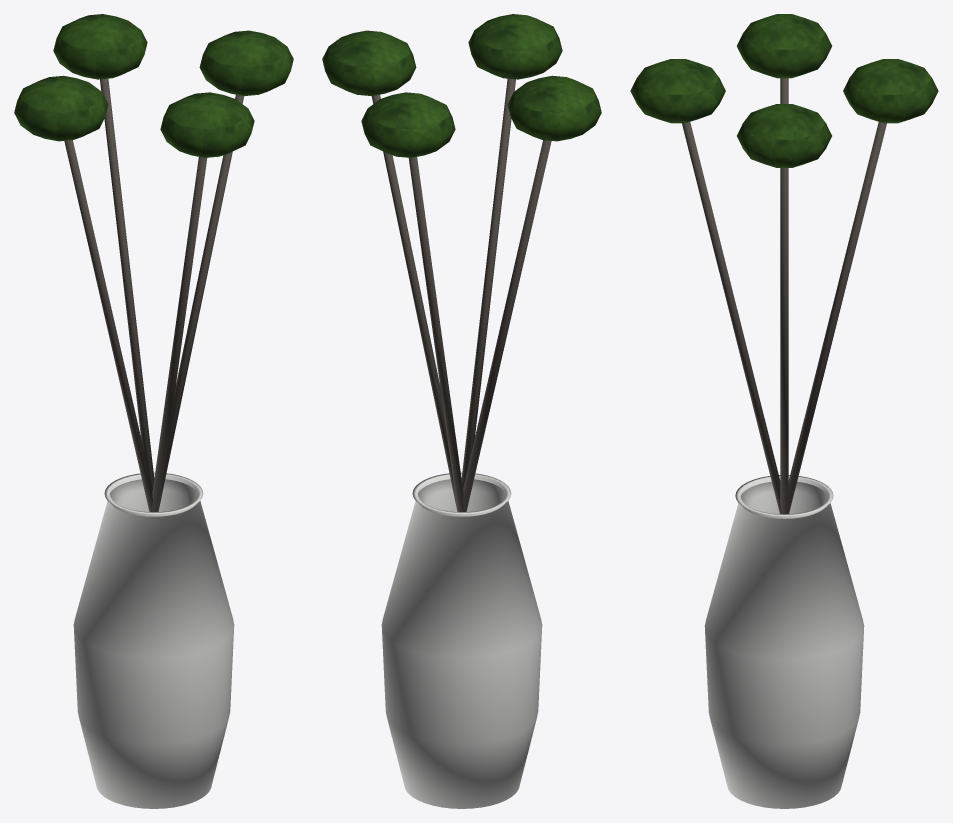
The model's file is foyer_vase.glb.
3 renders of one model, left to right at view 1: azimuth 30°, elevation 25°; view 2: azimuth 150°, elevation 25°; view 3: azimuth 270°, elevation 25°, orthographic.
Parts seen in each view (by area): view 1: foyer_vase; view 2: foyer_vase; view 3: foyer_vase.
Part boxes in pixels (x1,y1,x2,y2): foyer_vase: [14, 14, 293, 808]; foyer_vase: [322, 14, 601, 808]; foyer_vase: [630, 14, 938, 808].
Bounding box in the file's own units: 0.2856 × 0.747 × 0.29.
Materials: 3 (1 with a texture image).
